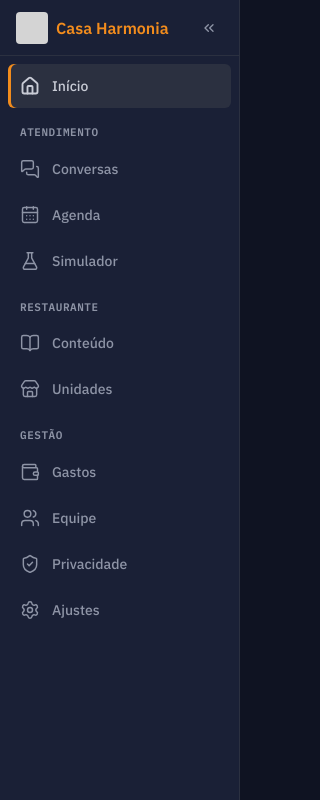
Test: MenuLateral › logo do restaurante › recolhido: só a logo (sem o nome), junto do botão de abrir
The width and height of the screenshot is (320, 800).
Click the button named "Recolher menu": (209, 28) left=187, top=6, right=231, bottom=50
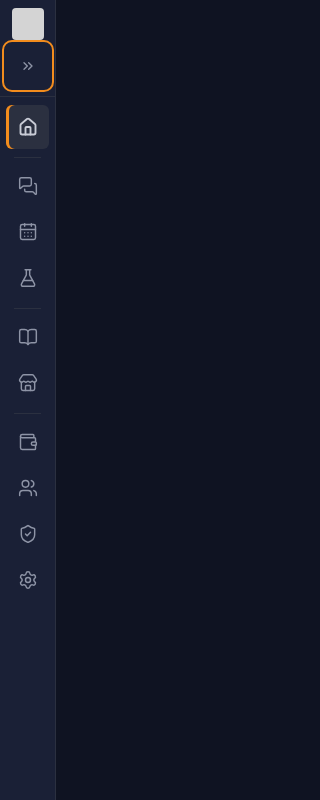
Result: the text "Casa Harmonia" is gone
Result: the button named "Abrir menu" is shown at left=6, top=44, right=50, bottom=88
